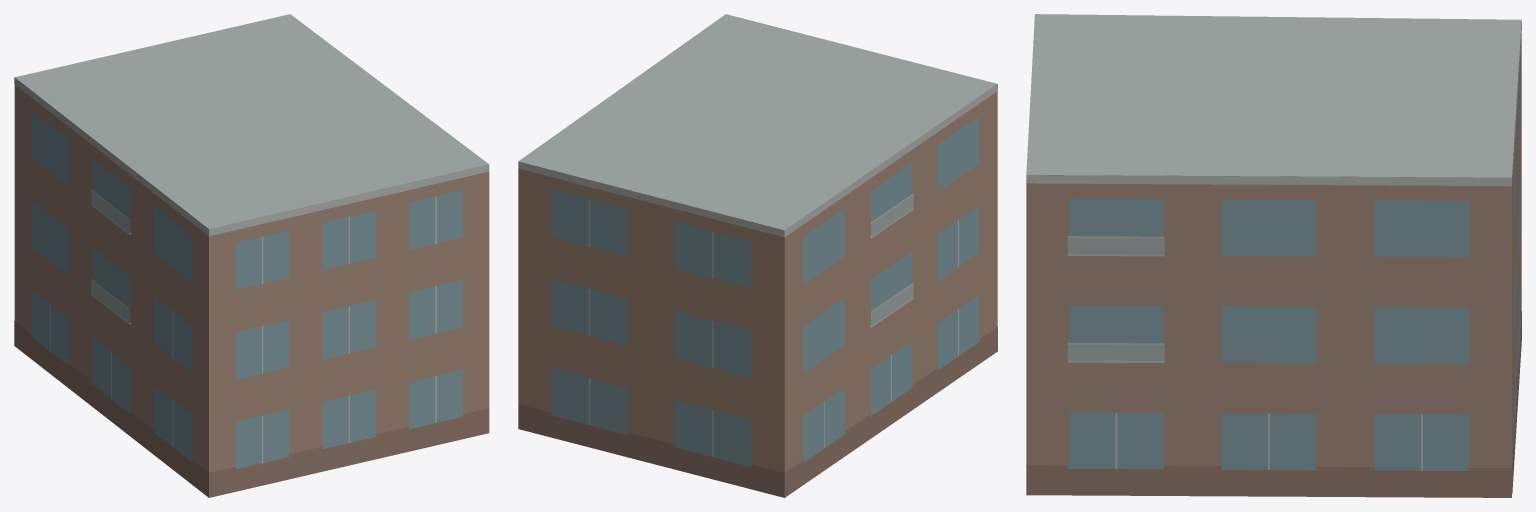
File: survey-upis-33015586.glb
The picture shows the model from 3 angles, left to right: view 1: azimuth 30°, elevation 25°; view 2: azimuth 150°, elevation 25°; view 3: azimuth 270°, elevation 25°; orthographic projection. The views are drawn at different scales.
Parts seen in each view (by area): view 1: survey-upis-33015586.tmp; view 2: survey-upis-33015586.tmp; view 3: survey-upis-33015586.tmp.
Boxes of the visible parts, x1,y1,x2,y2 form: survey-upis-33015586.tmp: (14,14,489,497); survey-upis-33015586.tmp: (518,14,997,497); survey-upis-33015586.tmp: (1026,14,1521,497).
Size of the model in its own units: 10.04 by 9.15 by 12.84.
